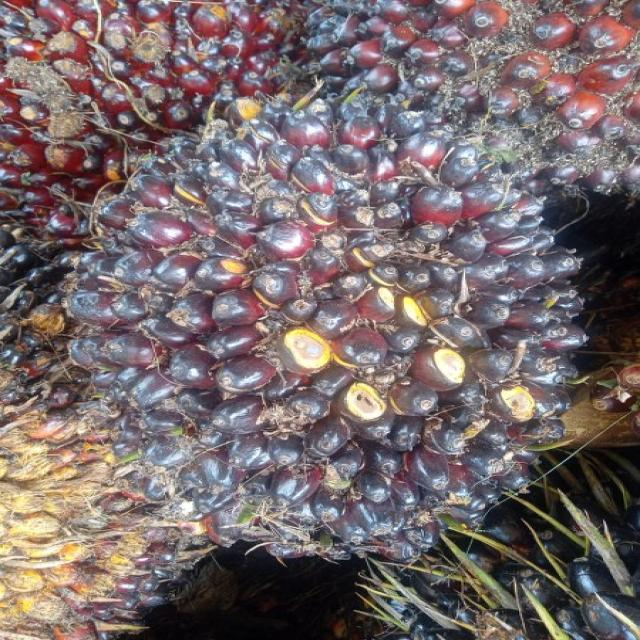fraksi 00: (76, 89, 585, 563)
